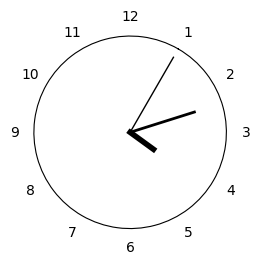12: (121, 9, 139, 23)
circle: (33, 36, 227, 229)
hours: (126, 128, 156, 151)
minutes: (132, 111, 196, 132)
seconds: (132, 57, 174, 129)
